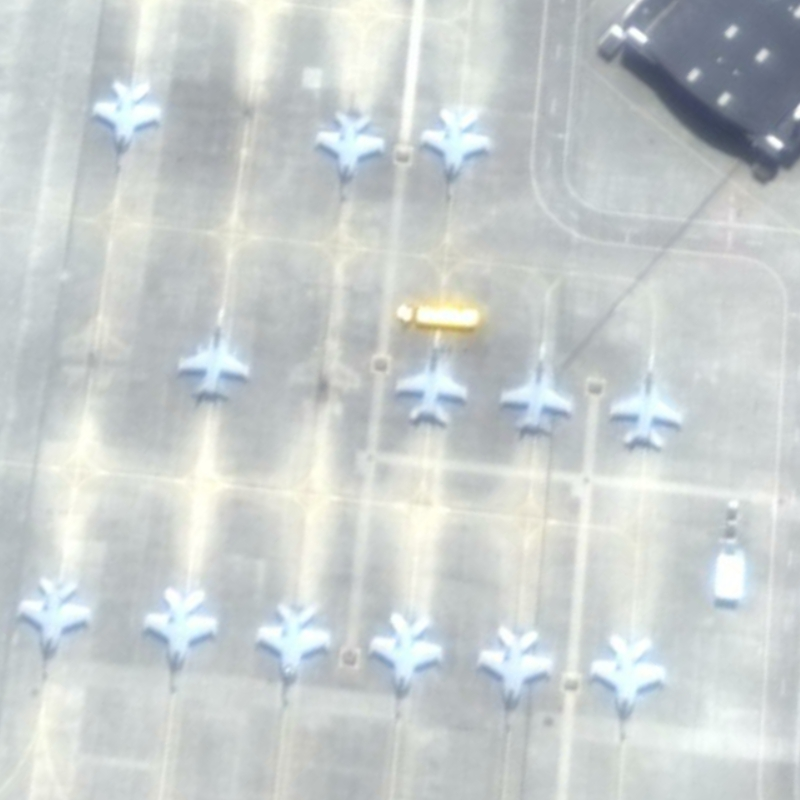A16: (465, 616, 557, 742), (587, 623, 676, 748), (248, 592, 335, 717), (132, 579, 221, 700), (362, 604, 448, 724), (10, 571, 99, 684), (411, 99, 498, 211), (164, 292, 249, 405), (600, 344, 687, 453), (389, 321, 474, 432), (304, 103, 391, 205), (495, 330, 575, 439), (87, 77, 167, 181)
